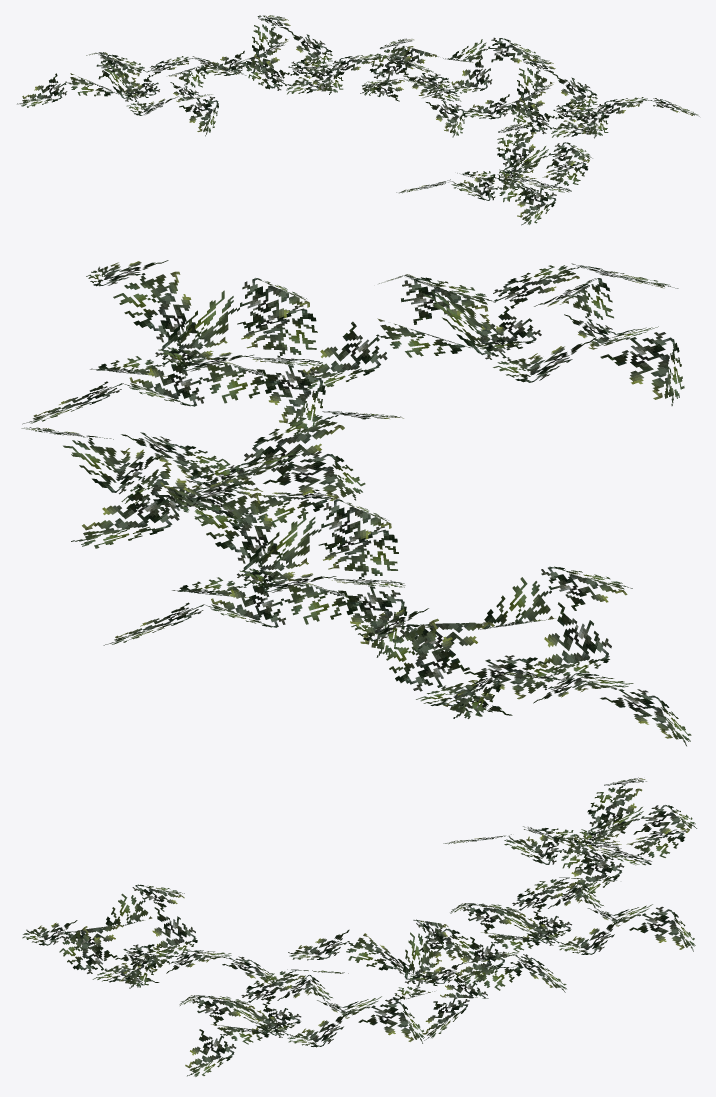
Rendered from Grass02.glb.
3 views of the same model, one above another, from view 1: azimuth 30°, elevation 25°; view 2: azimuth 150°, elevation 25°; view 3: azimuth 270°, elevation 25° (orthographic). The views are drawn at different scales.
Parts seen in each view (by area): view 1: Grass02; view 2: Grass02; view 3: Grass02.
Part boxes in pixels (x1,y1,x2,y2): Grass02: (17,15,699,225); Grass02: (21,260,691,746); Grass02: (22,777,696,1076).
Size of the model in its own units: 5.06 by 0.2892 by 4.85.
1 material, 1 textured.
